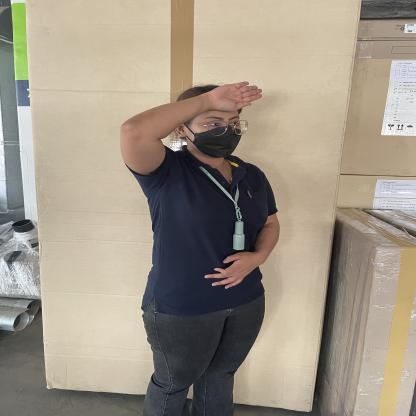Sick: (85, 66, 288, 182)
